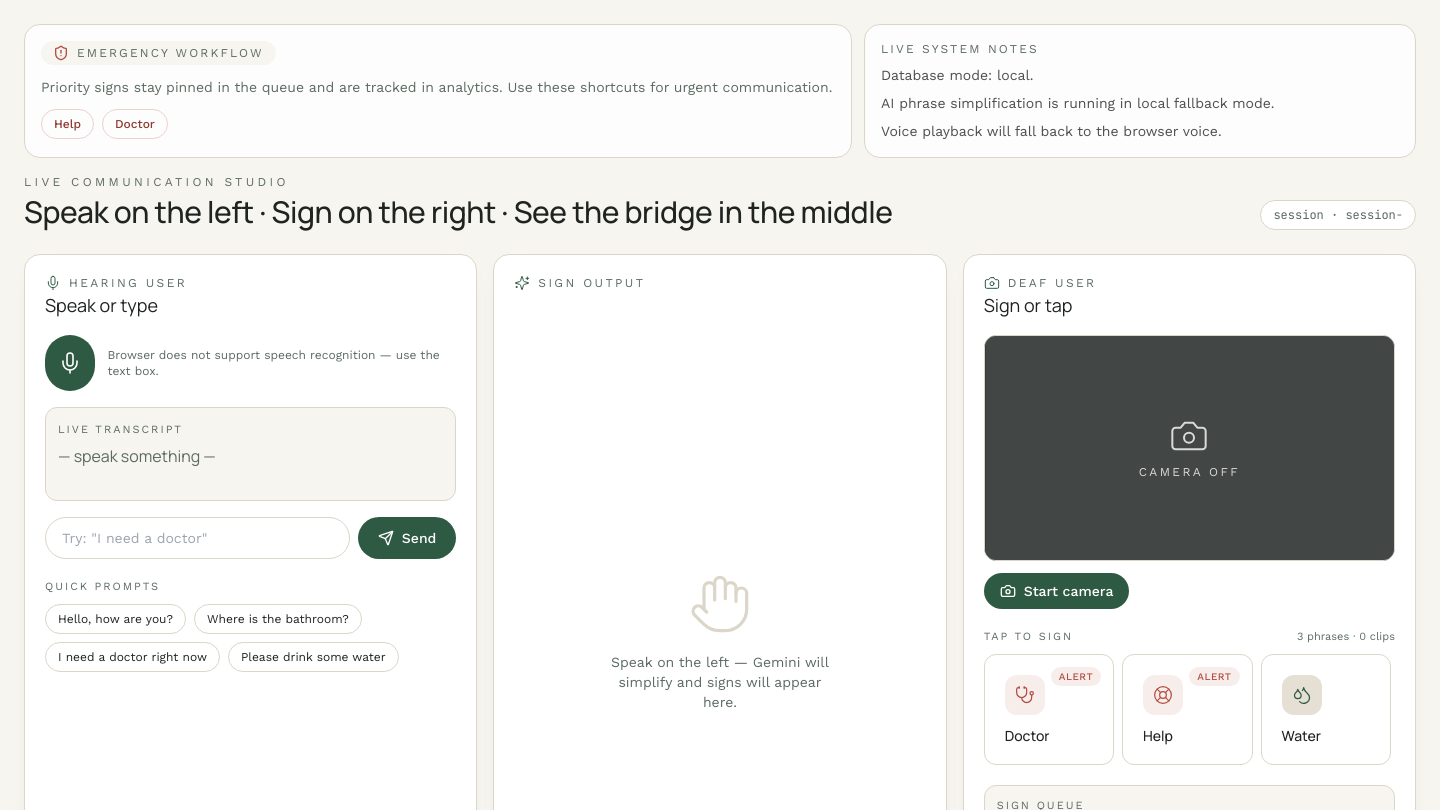
Test: StudioPage › shows the emergency queue banner after adding an urgent sign
Click the button "Help".
click(68, 124)  # box [41, 109, 94, 139]
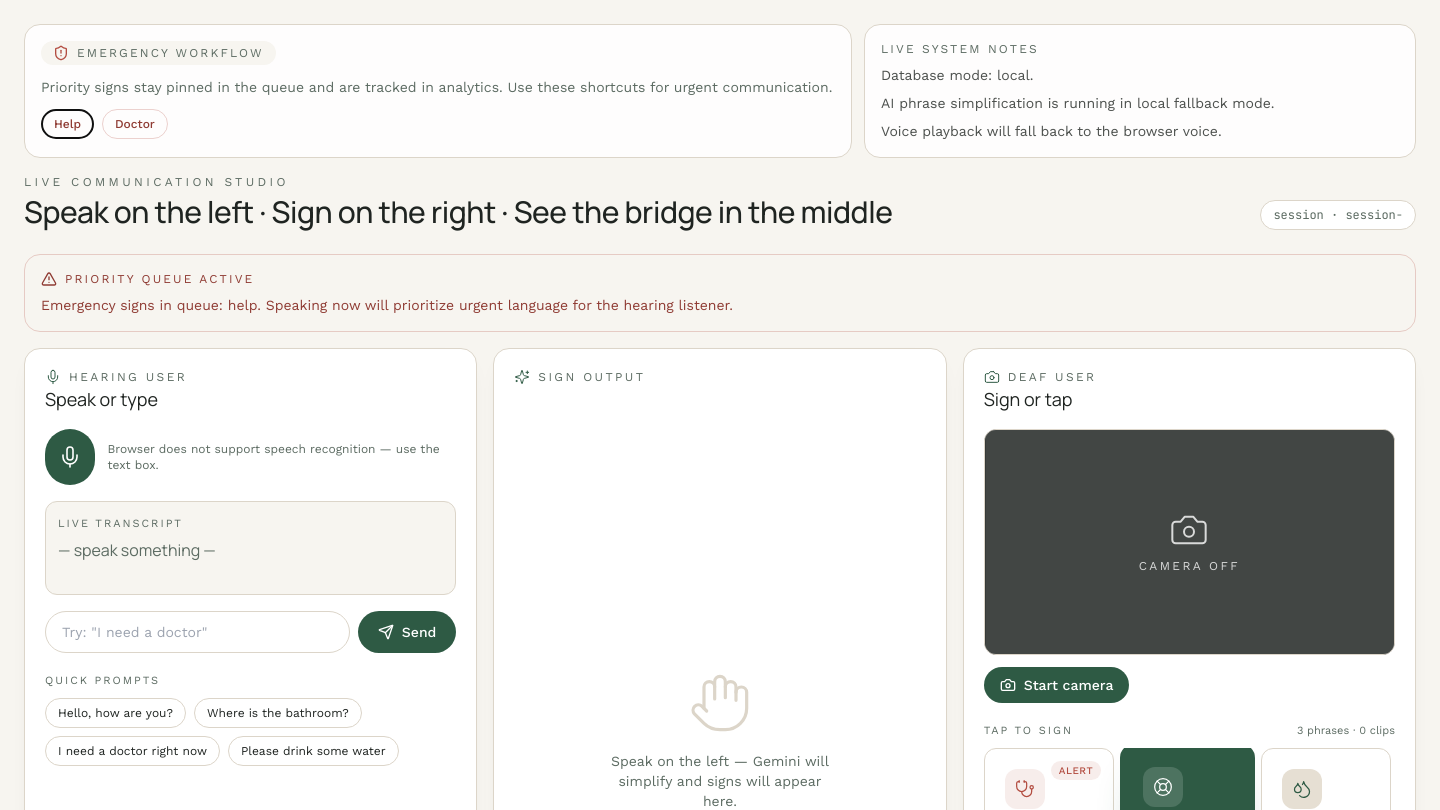
Now the element with test id "emergency-queue-banner" is shown, box [24, 254, 1416, 332]
Now the text "Emergency signs in queue" is shown, box [41, 297, 228, 313]
